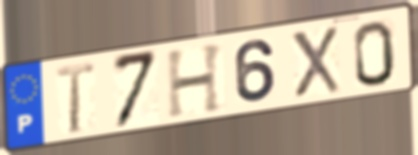0: (351, 17, 398, 89)
6: (232, 38, 278, 105)
7: (112, 47, 161, 133)
H: (163, 39, 227, 121)
T: (53, 59, 98, 137)
X: (288, 24, 343, 100)
